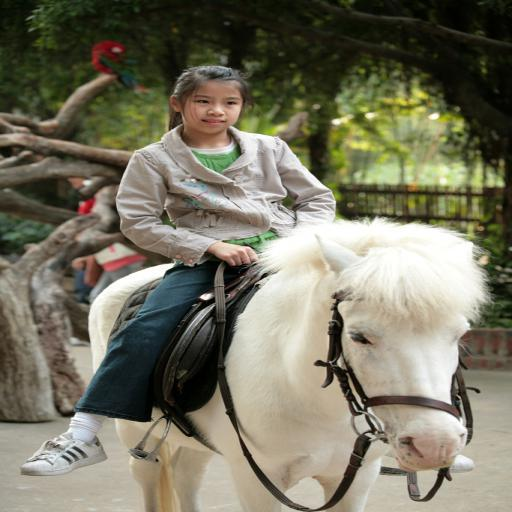Horse: (86, 219, 499, 511)
